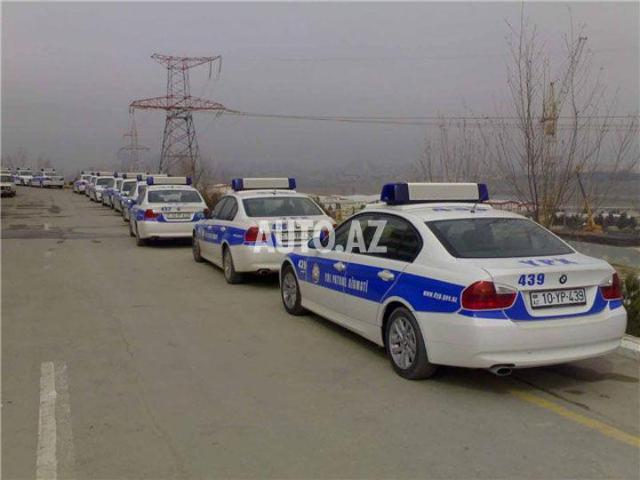police_car: (281, 180, 629, 384), (188, 178, 332, 282), (134, 175, 212, 250)
